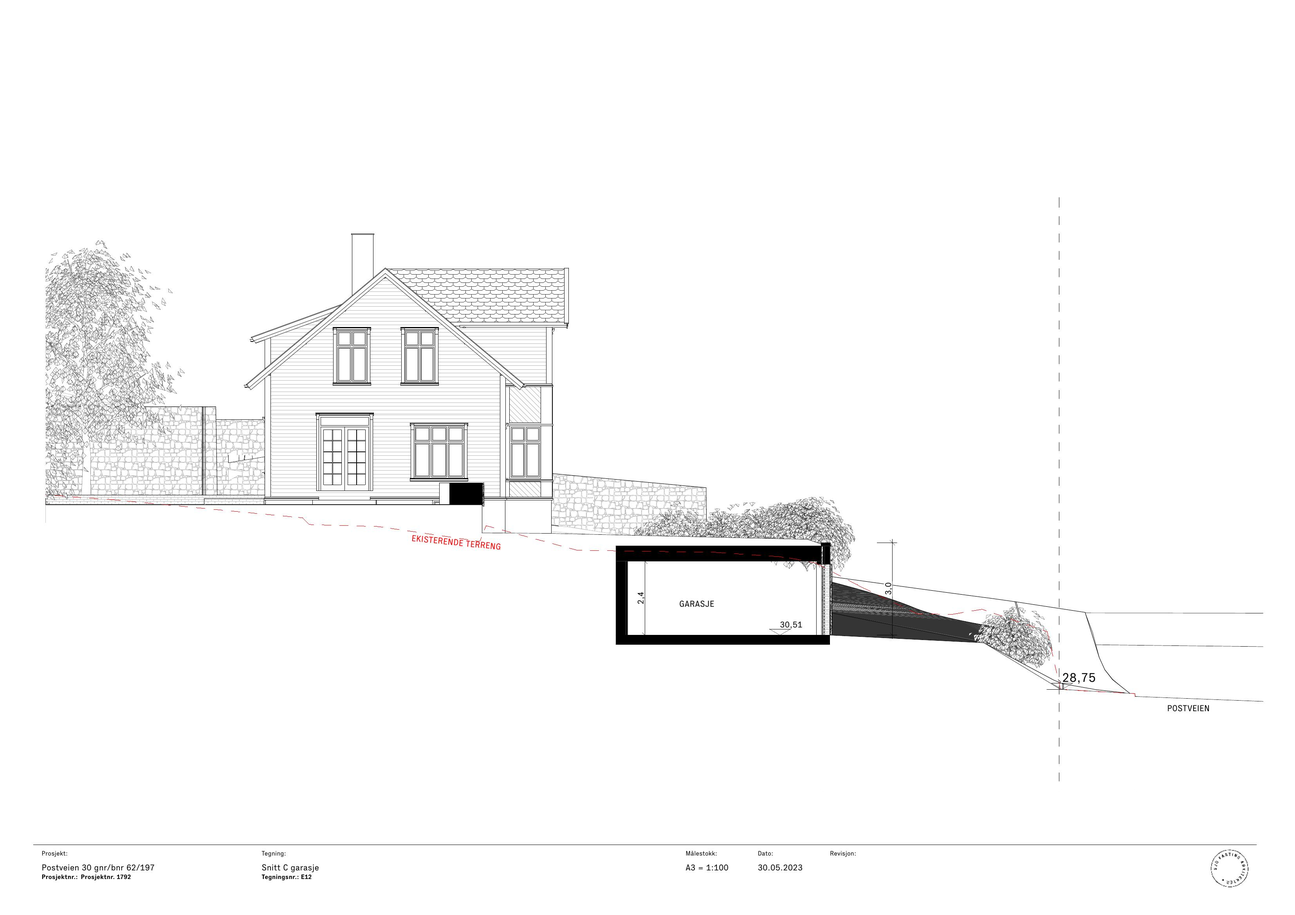snitt: (613, 537, 895, 652)
